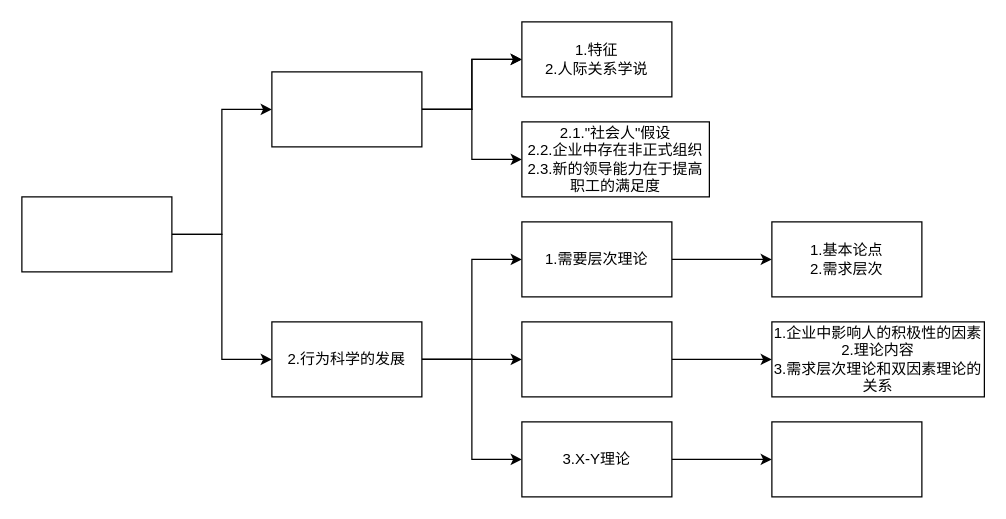
The diagram is 1006 pixels wide and 519 high, and some of its shapes have lost their labels. Each missing label, with the centre of its shape:
1.X理论 2.Y理论 3.X-Y理论的结论: point (846, 459)
1.早期的行为科学-人际关系学说: point (346, 109)
2.双因素理论: point (596, 359)
2.行为科学理论: point (96, 234)
